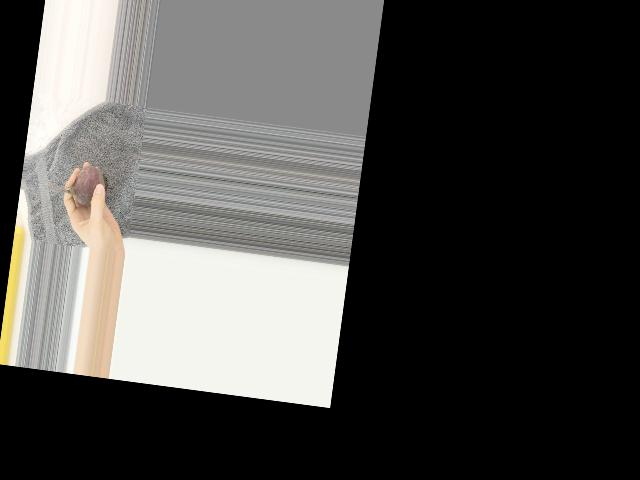beet: (44, 160, 110, 208)
